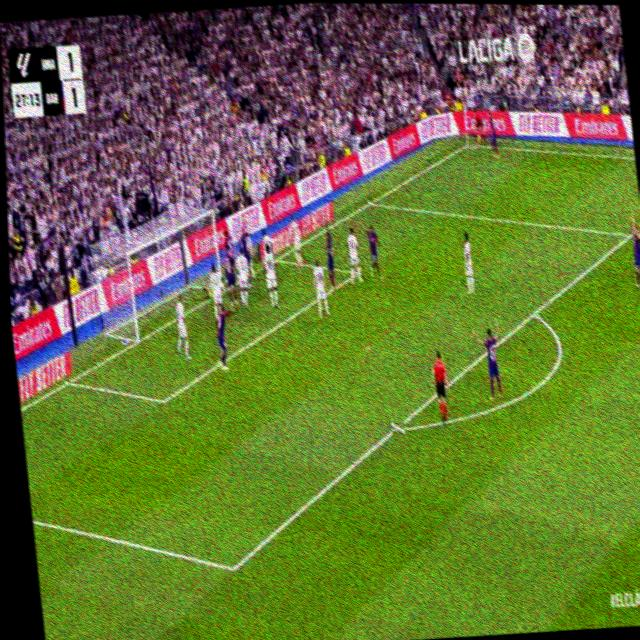bigarea_bottom_inner: (224, 549, 244, 584)
bigarea_top_inner: (625, 224, 634, 243)
bigarea_top_outter: (366, 193, 375, 208)
bottom_arc_area_intersection: (390, 411, 406, 440)
corner: (460, 136, 472, 148)
smallarea_bottom_outter: (64, 373, 74, 388)
top_arc_area_intersection: (527, 300, 540, 322)
